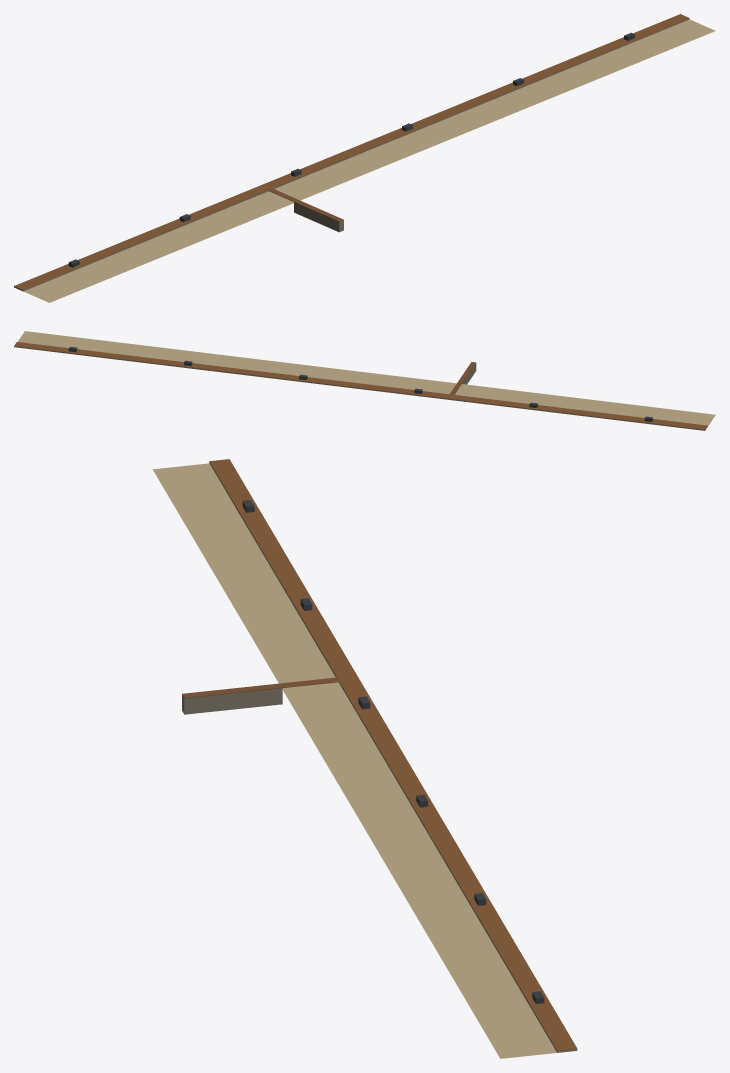
3 views of the same model, one above another, from view 1: azimuth 30°, elevation 25°; view 2: azimuth 150°, elevation 25°; view 3: azimuth 270°, elevation 25° (orthographic). The views are drawn at different scales.
Visible parts, largest first — view 1: coney-island-boardwalk-lod3; view 2: coney-island-boardwalk-lod3; view 3: coney-island-boardwalk-lod3.
Part boxes in pixels (x1,y1,x2,y2): coney-island-boardwalk-lod3: (14,14,715,302); coney-island-boardwalk-lod3: (14,331,715,430); coney-island-boardwalk-lod3: (152,459,577,1058).
Bounding box in the file's own units: 2656 × 46.69 × 798.
